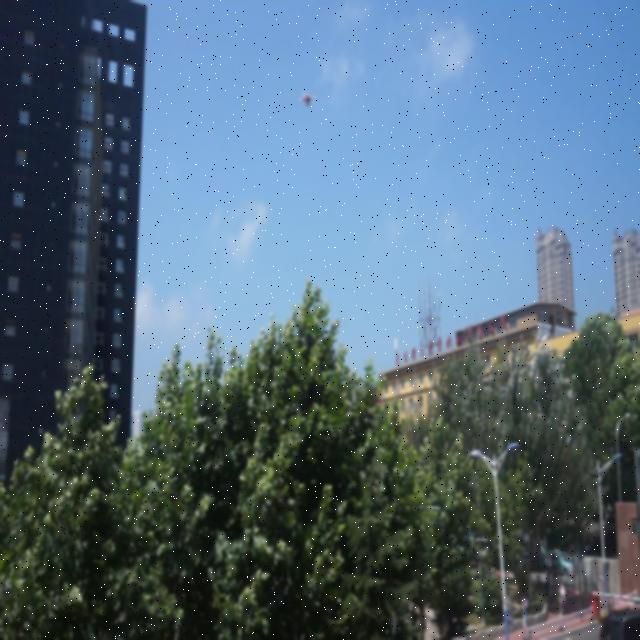UAV: (300, 91, 318, 109)
